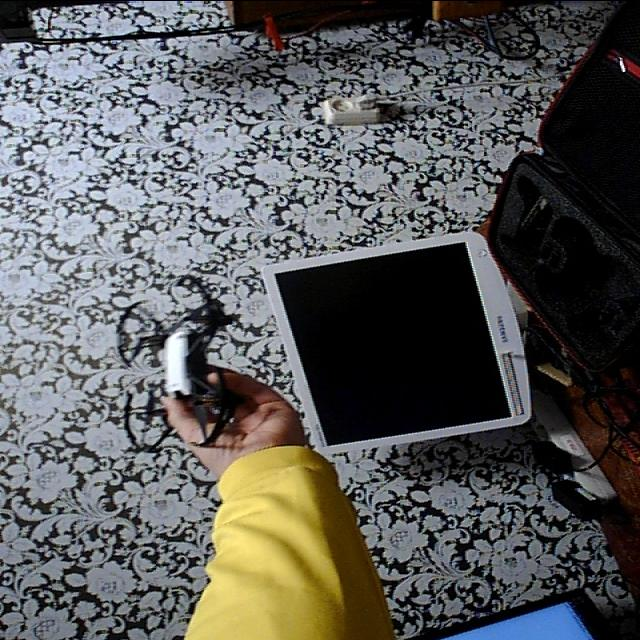drone: (96, 272, 250, 468)
